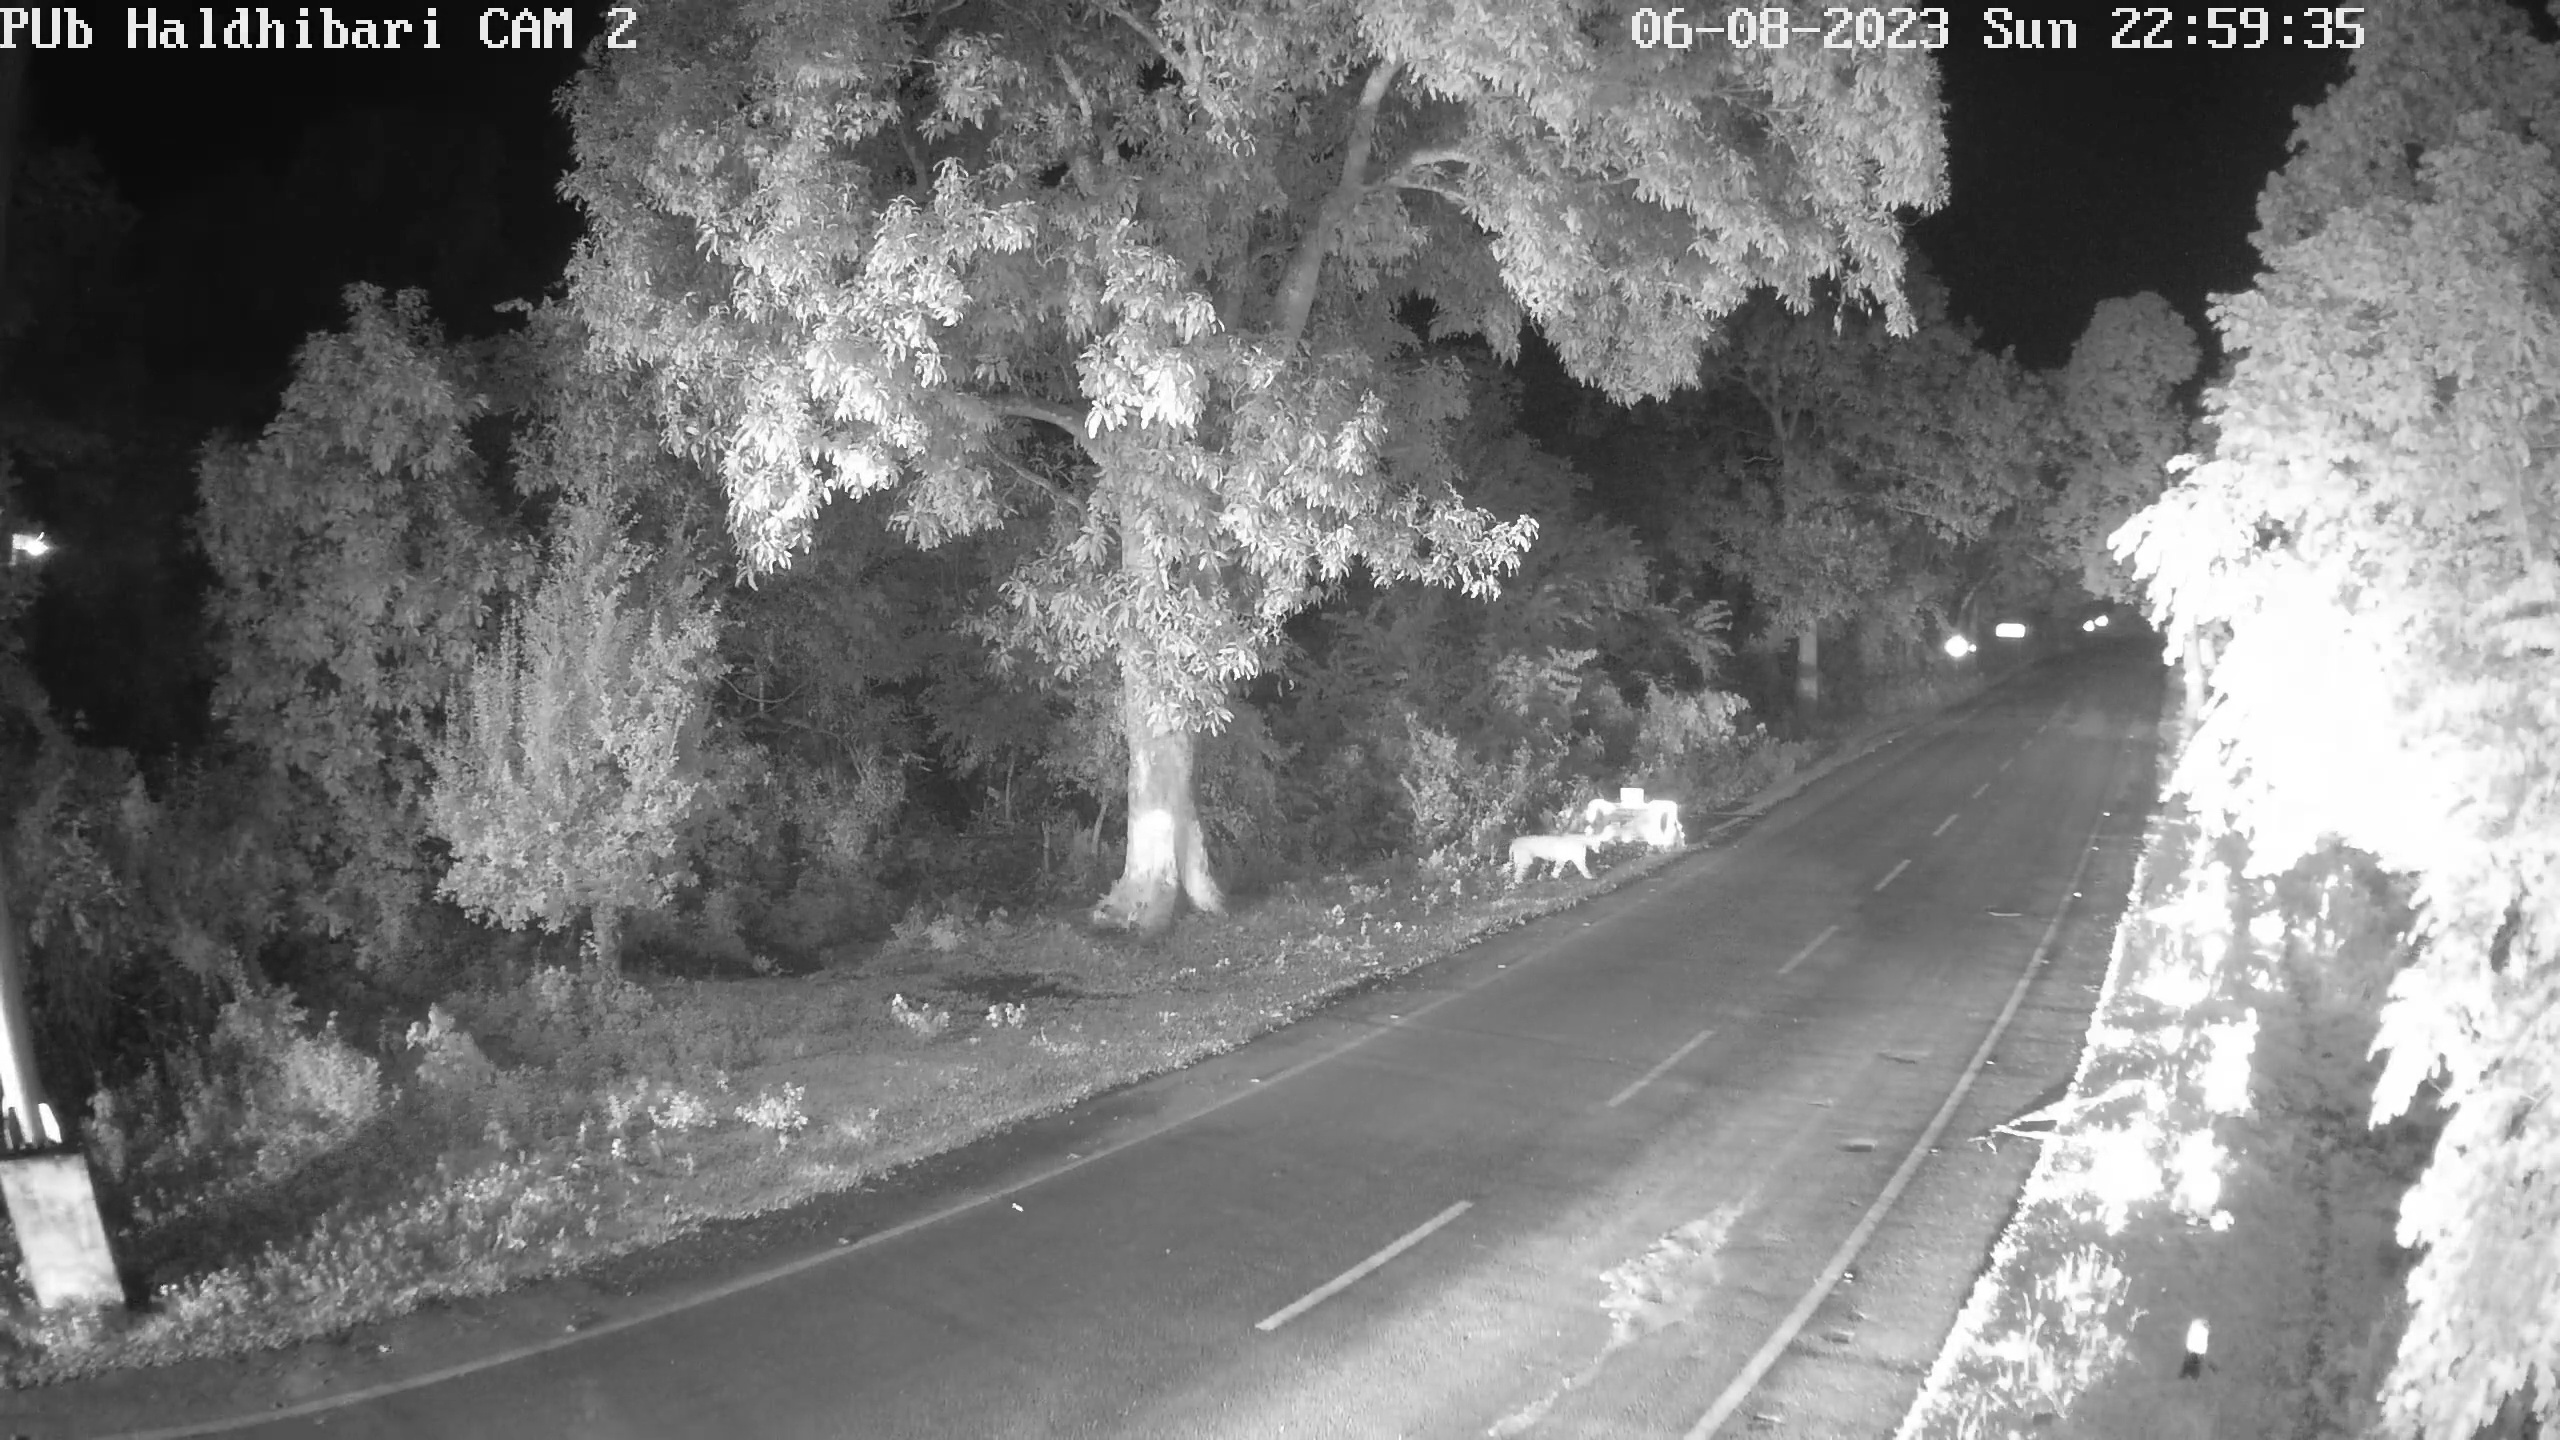tigers: (1503, 825, 1605, 883)
